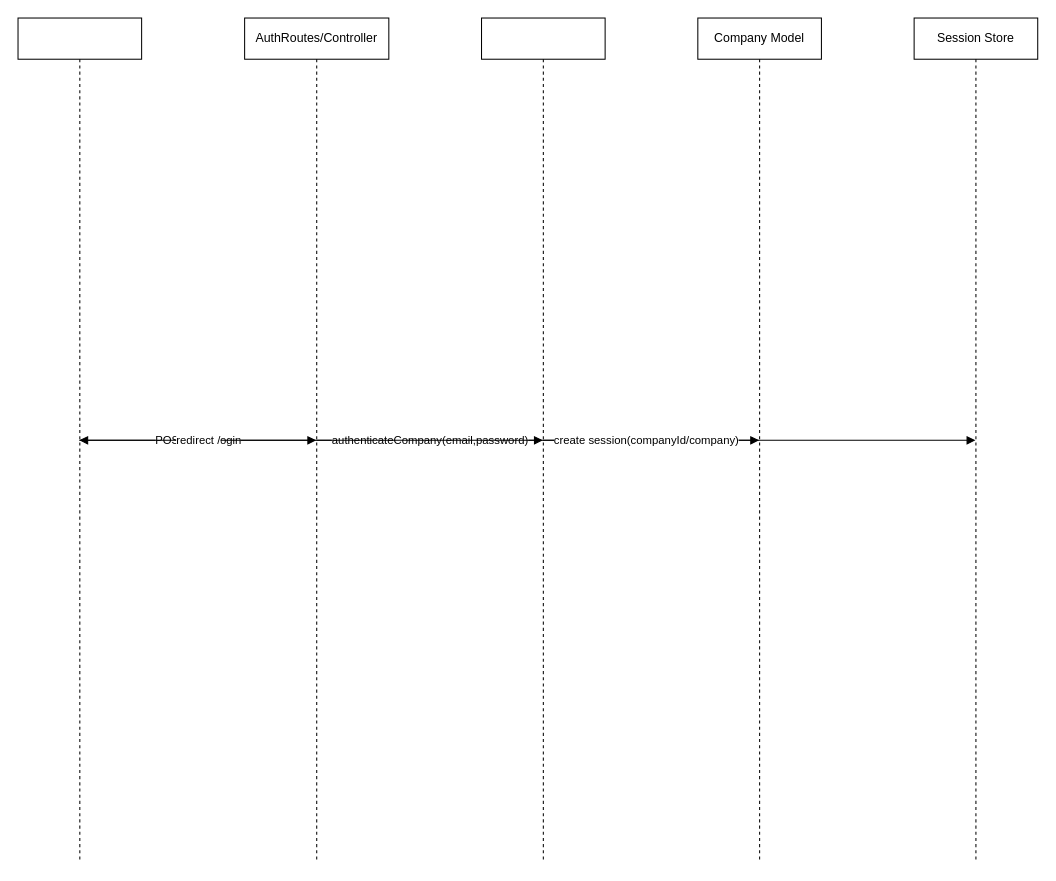
Image size: 1056x881. Some labels were removed from this diagram. The box of each missing label's shape, as (x1, y1, x2, y2) in pixels:
Admin Browser: (17, 17, 142, 863)
AuthService: (480, 17, 605, 863)
